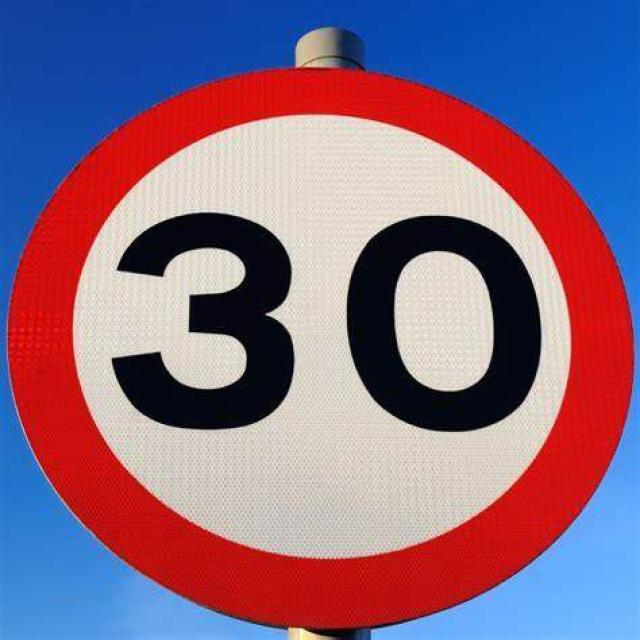speed limit 30: (29, 74, 597, 599)
